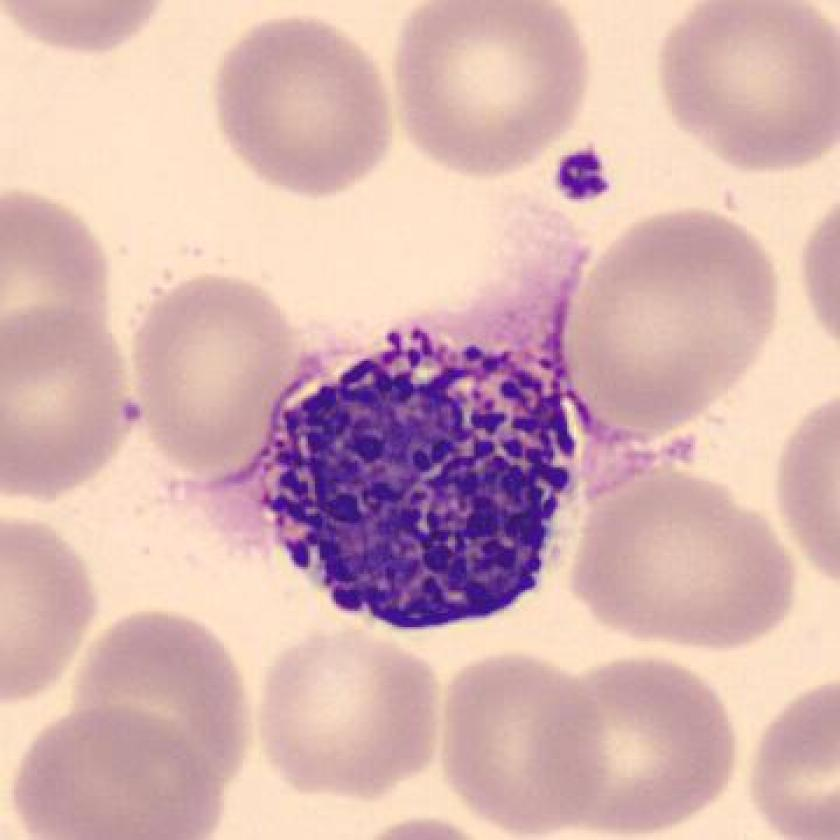basophil: (267, 332, 570, 626)
